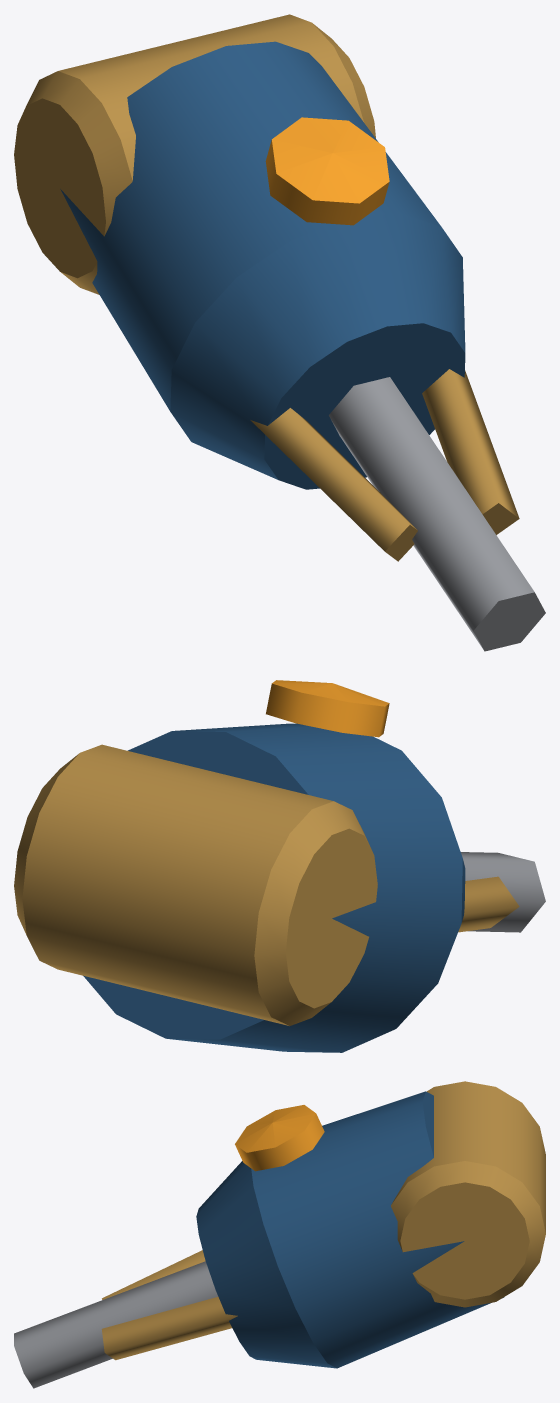
Rendered from rm2_tool_head.obj.
3 renders of one model, top to bottom at view 1: azimuth 30°, elevation 25°; view 2: azimuth 150°, elevation 25°; view 3: azimuth 270°, elevation 25°, orthographic. The views are drawn at different scales.
Visible parts, largest first — view 1: rm2_tool_head; view 2: rm2_tool_head; view 3: rm2_tool_head.
Boxes of the visible parts, box(x1,y1,x2,y2) form: rm2_tool_head: box(14, 14, 545, 651); rm2_tool_head: box(14, 680, 545, 1052); rm2_tool_head: box(14, 1081, 545, 1388).
Size of the model in its own units: 0.064 by 0.0841 by 0.1447.
